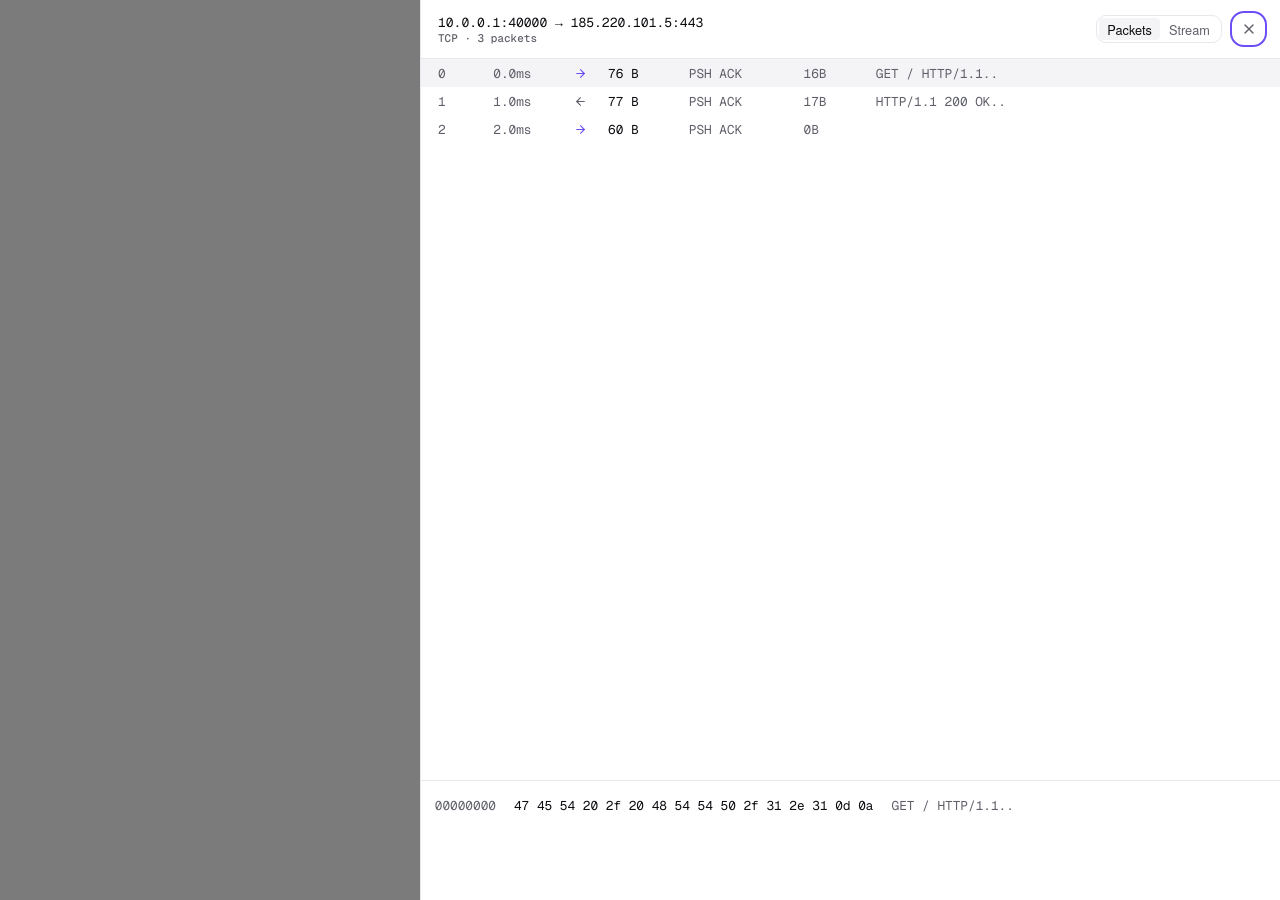
Test: PacketInspector › selecting a different packet updates the hex viewer
Click the text "HTTP/1.1 200 OK.." at (941, 101), box [876,93,1006,110]
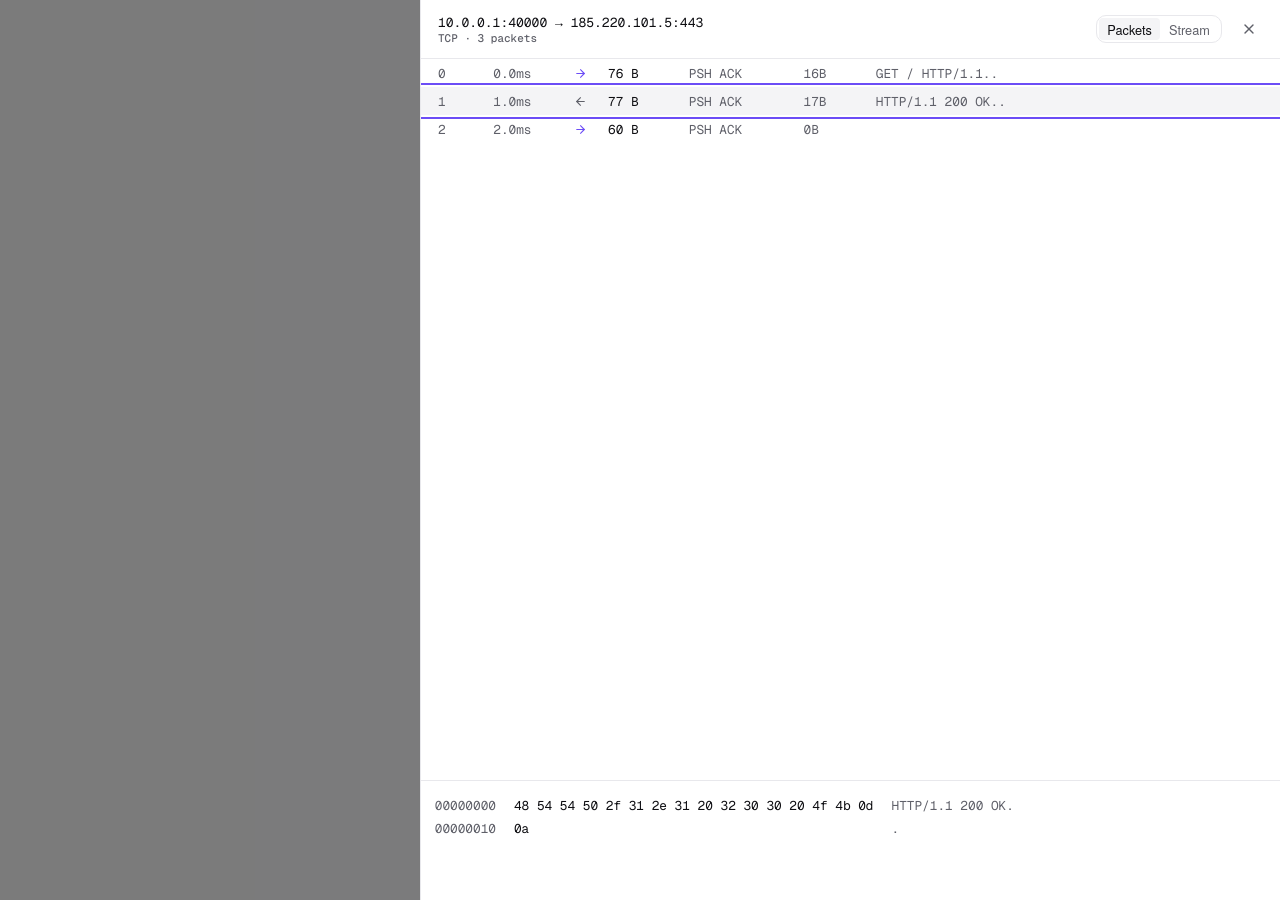
Expected: the text "48 54 54 50 2f 31 2e 31 20 32 30 30 20 4f 4b 0d" is shown, [513,794,891,817]
